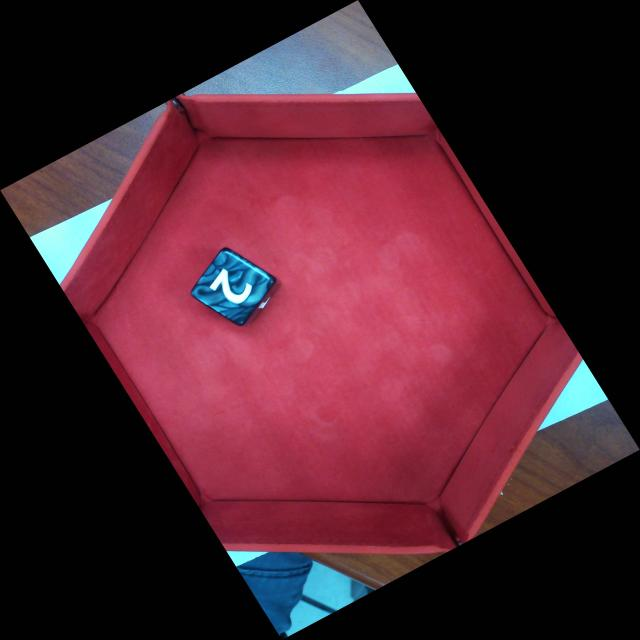dice: (187, 245, 279, 330)
